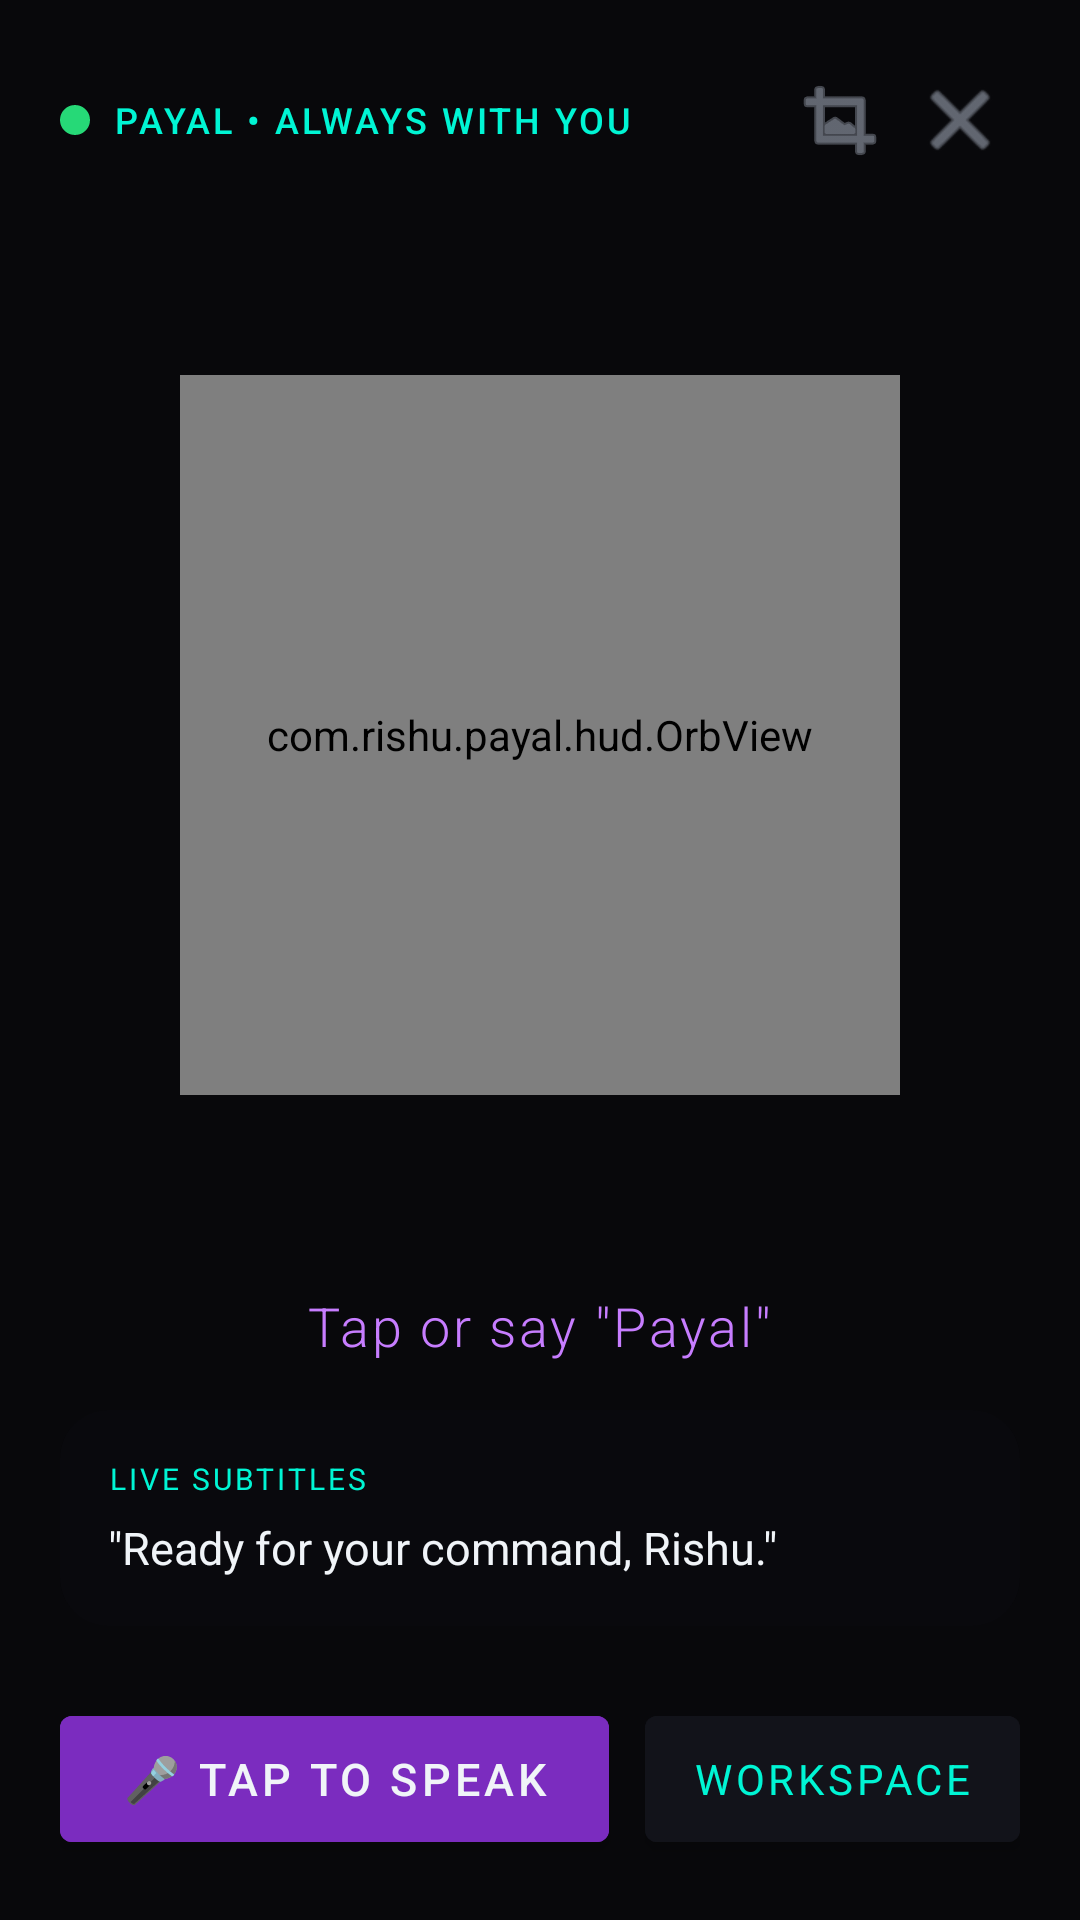

Screen size 1080 x 1920. Icon name, then its box in pixels as [x1, y1, x2, y2]:
Close: [930, 90, 990, 150]
